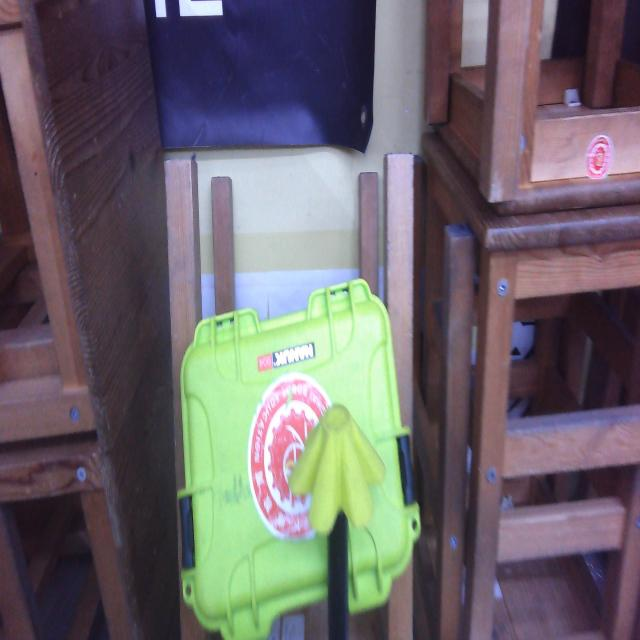Yellow-Stake-Head: (289, 402, 386, 534)
